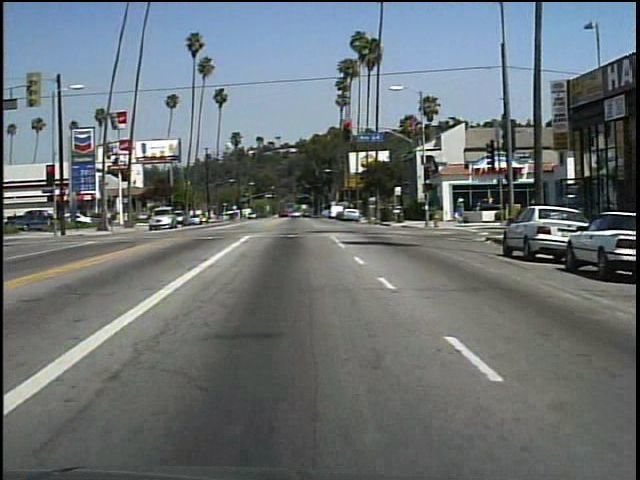person: (451, 195, 467, 227)
